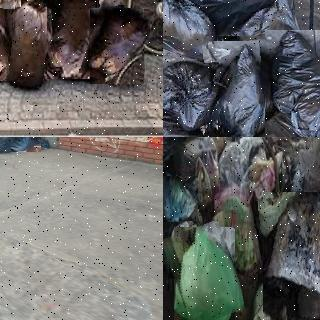Garbage: (260, 189, 320, 320), (167, 223, 242, 320), (205, 39, 279, 137), (265, 30, 320, 137), (163, 53, 228, 137), (85, 5, 149, 87), (163, 0, 278, 43), (7, 0, 55, 88), (47, 0, 97, 79), (163, 175, 198, 221), (0, 0, 13, 81), (61, 0, 122, 16), (10, 137, 41, 152), (0, 137, 18, 156)
